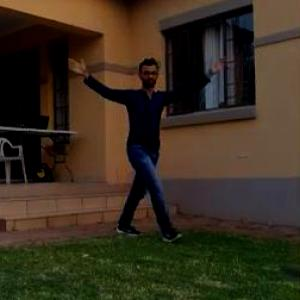takeoff: (58, 56, 223, 242)
